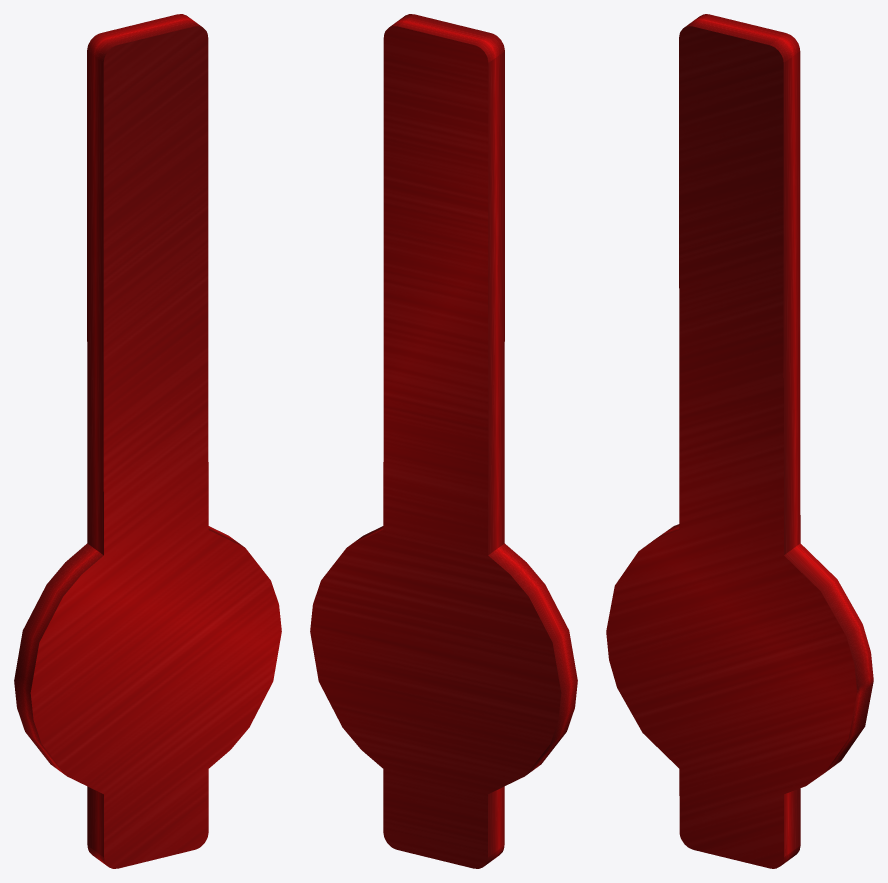
The model's file is hora.obj.
3 views of the same model, side by side, from view 1: azimuth 30°, elevation 25°; view 2: azimuth 150°, elevation 25°; view 3: azimuth 330°, elevation 25° (orthographic).
Visible parts, largest first — view 1: polySurface3 polySurface2 reloj_azul:Mesh; view 2: polySurface3 polySurface2 reloj_azul:Mesh; view 3: polySurface3 polySurface2 reloj_azul:Mesh.
Part boxes in pixels (x1,y1,x2,y2): polySurface3 polySurface2 reloj_azul:Mesh: [14, 14, 281, 868]; polySurface3 polySurface2 reloj_azul:Mesh: [310, 14, 577, 868]; polySurface3 polySurface2 reloj_azul:Mesh: [606, 14, 873, 868].
Size of the model in its own units: 0.3169 by 0.9928 by 0.0362.
1 material, 1 textured.
